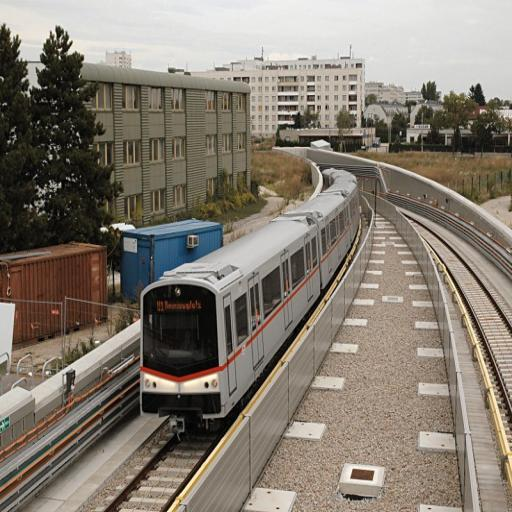V-Wagen: (140, 167, 360, 443)
